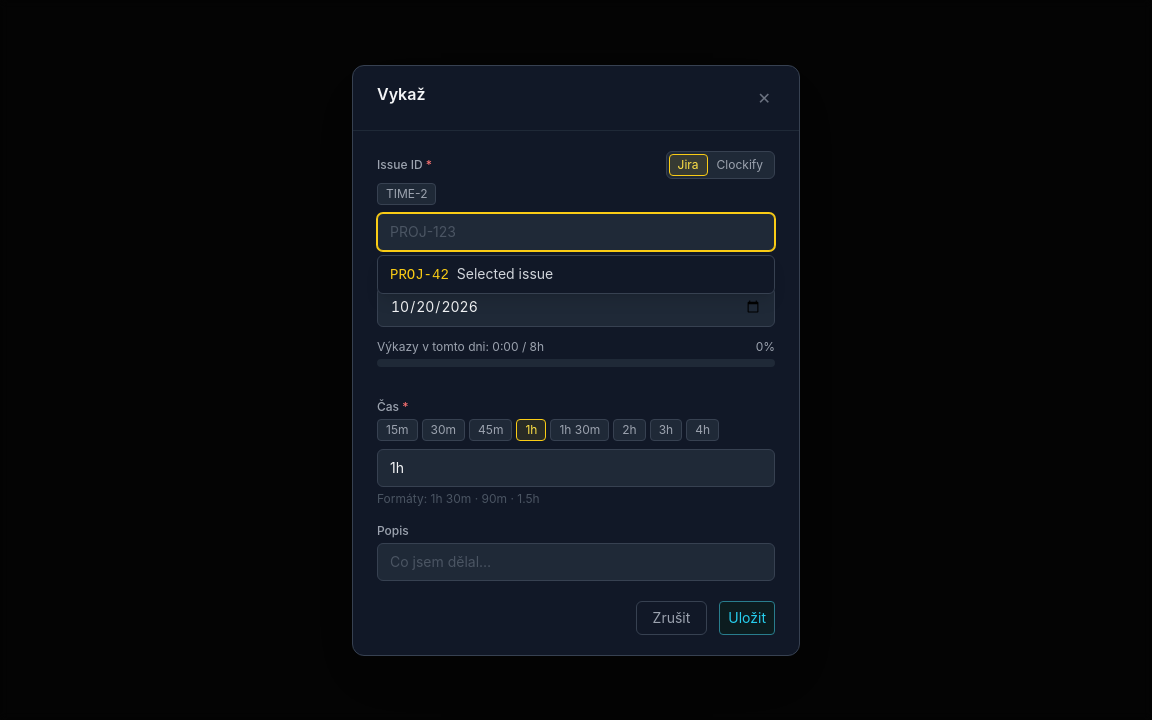
Test: calendar binding header › keeps the form usable when the recent issue name cannot be loaded
Click the button "TIME-2". click: coordinates (407, 194)
box: [377,182,436,204]
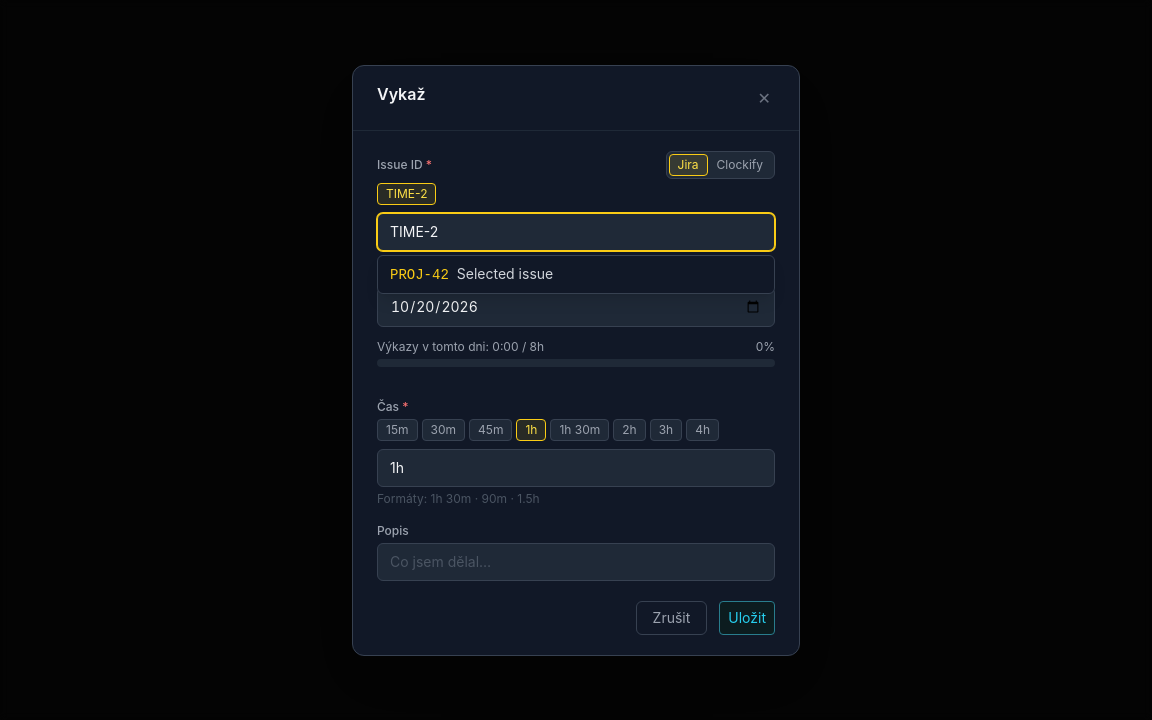
Now the 1st field holds "TIME-2", box [377,212,775,250]
